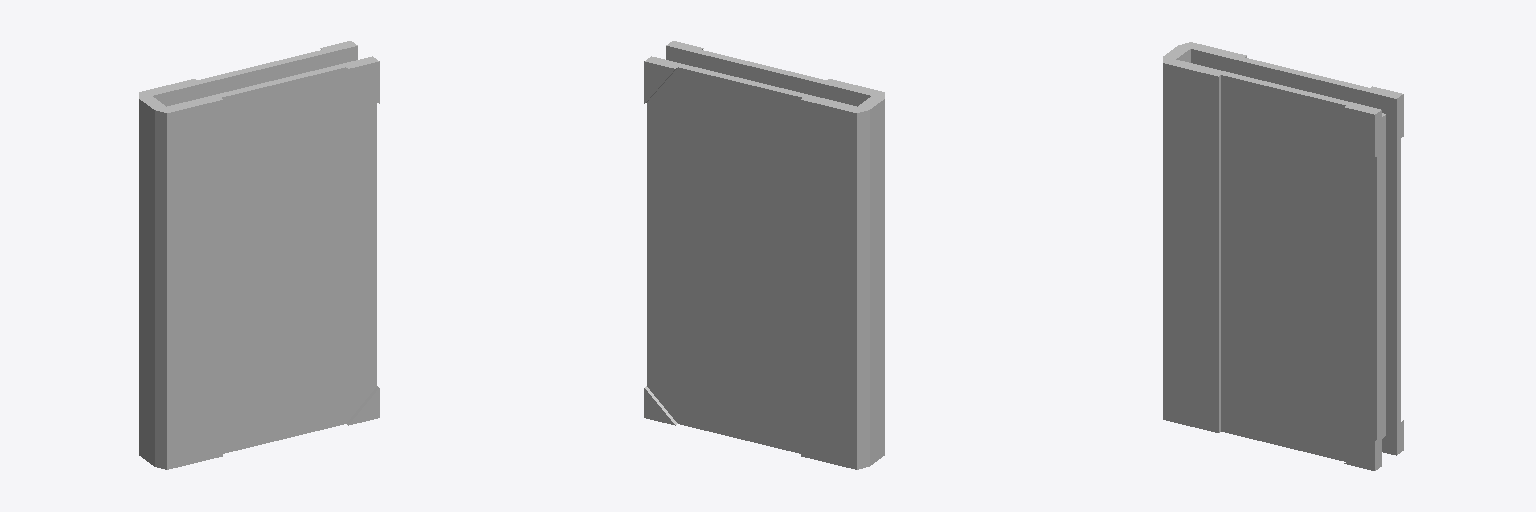
File: Kreckler_RedBk.obj
The picture shows the model from 3 angles: view 1: azimuth 30°, elevation 25°; view 2: azimuth 150°, elevation 25°; view 3: azimuth 330°, elevation 25°; orthographic projection.
Parts seen in each view (by area): view 1: Red Regular_Books; view 2: Red Regular_Books; view 3: Red Regular_Books.
Part boxes in pixels (x1,y1,x2,y2): Red Regular_Books: (139, 41, 379, 469); Red Regular_Books: (644, 41, 884, 469); Red Regular_Books: (1163, 42, 1403, 470).
Size of the model in its own units: 2.32 by 3.62 by 0.5282.